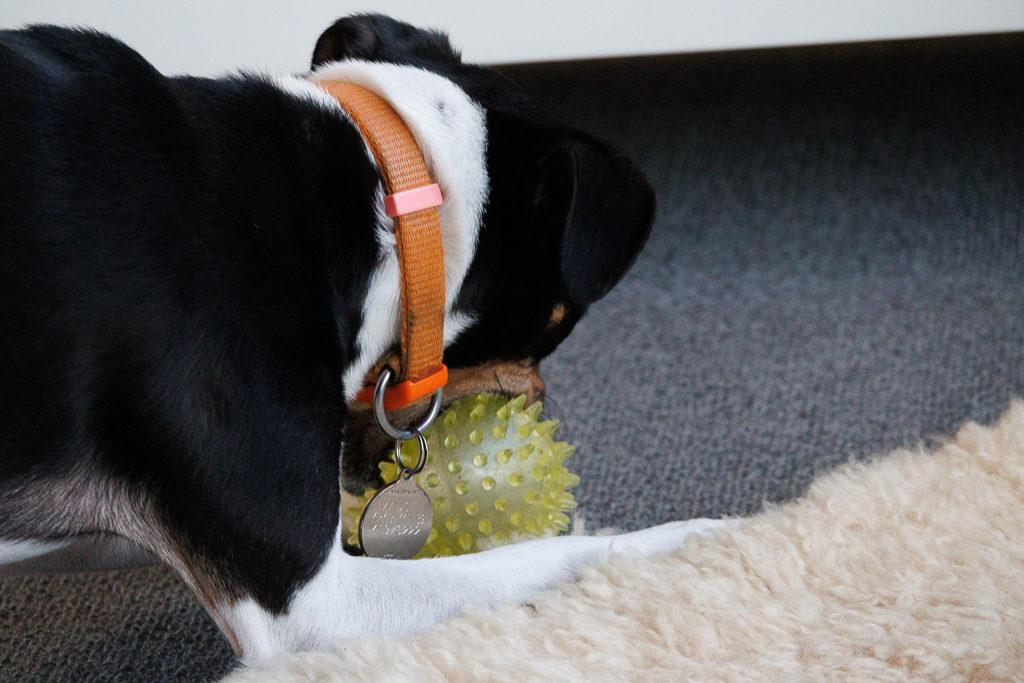Dog: (0, 9, 756, 682)
